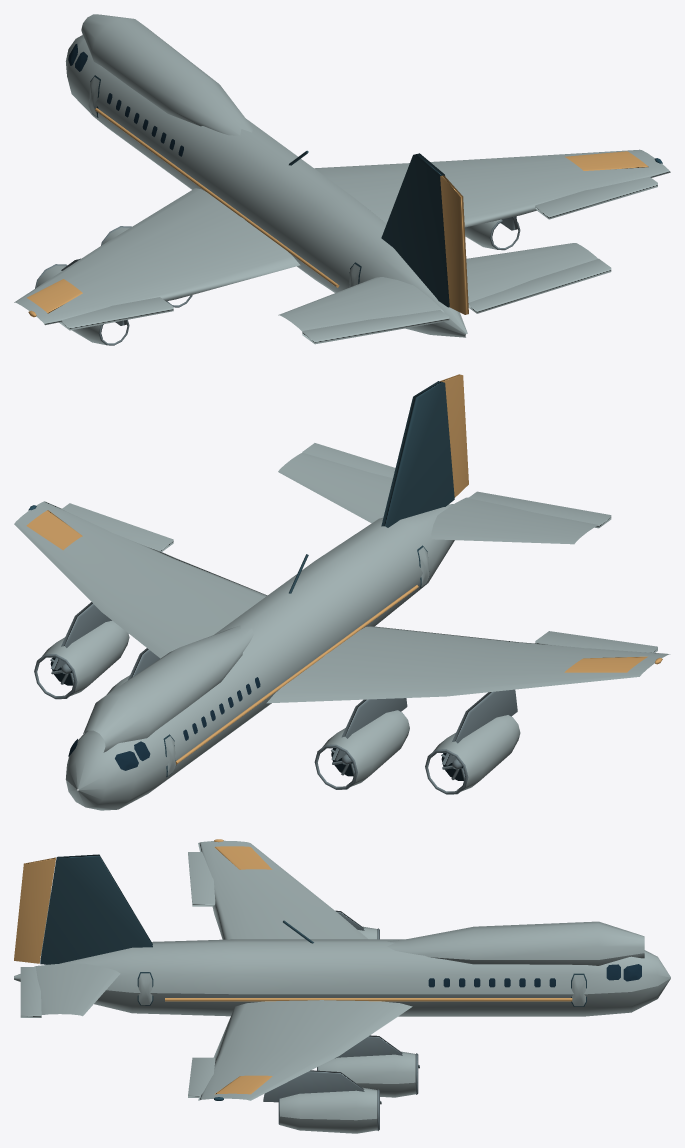
Rendered from player-leviathan-mobile-v1.glb.
The picture shows the model from 3 angles, top to bottom: view 1: azimuth 30°, elevation 25°; view 2: azimuth 150°, elevation 25°; view 3: azimuth 270°, elevation 25°; orthographic projection. The views are drawn at different scales.
Visible parts, largest first — view 1: hull, trim, accent, rudder, elevator-right, elevator-left, aileron-right, aileron-left, metal, cabin; view 2: hull, trim, metal, accent, rudder, elevator-left, aileron-right, aileron-left, elevator-right, cabin; view 3: hull, trim, accent, metal, rudder, aileron-left, cabin, elevator-right, aileron-right.
Part boxes in pixels (left/top/right/bottom): hull: left=14, top=14, right=670, bottom=344; trim: left=90, top=75, right=449, bottom=307; accent: left=27, top=108, right=648, bottom=317; rudder: left=440, top=175, right=468, bottom=314; elevator-right: left=468, top=258, right=611, bottom=313; elevator-left: left=302, top=310, right=449, bottom=344; aileron-right: left=535, top=176, right=657, bottom=219; aileron-left: left=59, top=297, right=173, bottom=330; metal: left=35, top=216, right=520, bottom=345; cabin: left=68, top=44, right=183, bottom=156; hull: left=14, top=452, right=670, bottom=810; trim: left=163, top=381, right=454, bottom=777; metal: left=34, top=602, right=519, bottom=794; accent: left=26, top=510, right=662, bottom=764; rudder: left=440, top=374, right=468, bottom=497; elevator-left: left=468, top=491, right=611, bottom=528; aileron-right: left=61, top=503, right=173, bottom=551; aileron-left: left=535, top=631, right=657, bottom=652; elevator-right: left=302, top=443, right=395, bottom=478; cabin: left=68, top=677, right=260, bottom=770; hull: left=14, top=840, right=670, bottom=1133; trim: left=40, top=854, right=586, bottom=1006; accent: left=165, top=839, right=572, bottom=1094; metal: left=263, top=910, right=419, bottom=1130; rudder: left=14, top=857, right=55, bottom=963; aileron-left: left=188, top=852, right=215, bottom=906; cabin: left=428, top=964, right=641, bottom=987; elevator-right: left=20, top=967, right=41, bottom=1017; aileron-right: left=188, top=1057, right=215, bottom=1097.
Bounding box in the file's own units: 65.56 × 22.96 × 70.
